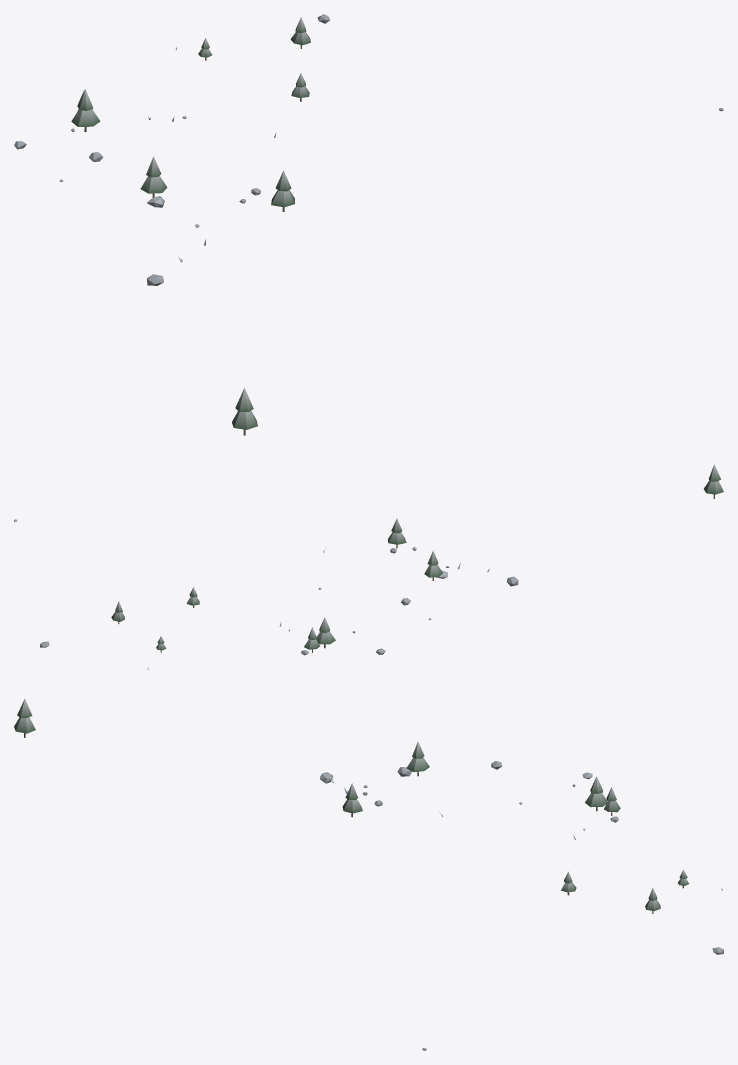
Rendered from frost_land_scatter_c17_11_lod1.glb.
3 renders of one model, top to bottom at view 1: azimuth 30°, elevation 25°; view 2: azimuth 150°, elevation 25°; view 3: azimuth 270°, elevation 25°, orthographic. The views are drawn at different scales.
Parts seen in each view (by area): view 1: frost_land_scatter_c17_11_lod1; view 2: frost_land_scatter_c17_11_lod1; view 3: frost_land_scatter_c17_11_lod1.
Boxes of the visible parts, x1=… form: frost_land_scatter_c17_11_lod1: x1=14, y1=14, x2=723, y2=435; frost_land_scatter_c17_11_lod1: x1=14, y1=464, x2=723, y2=669; frost_land_scatter_c17_11_lod1: x1=14, y1=698, x2=723, y2=1050.
Size of the model in its own units: 247 by 31.21 by 252.
